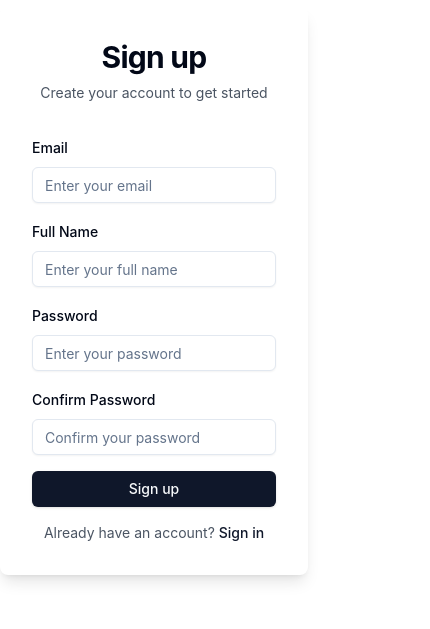
it: RegistrationPage › shows error when passwords do not match
Type "password123" into the password field labelled "Password" at (154, 353), box [32,335,276,371]
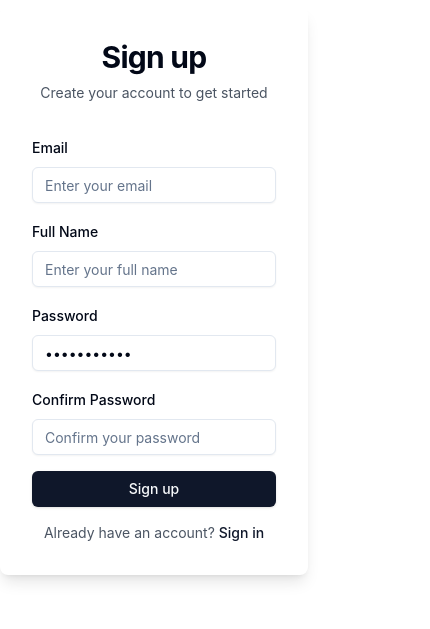
Type "different" into the password field labelled "Confirm Password" at (154, 437), box [32,419,276,455]
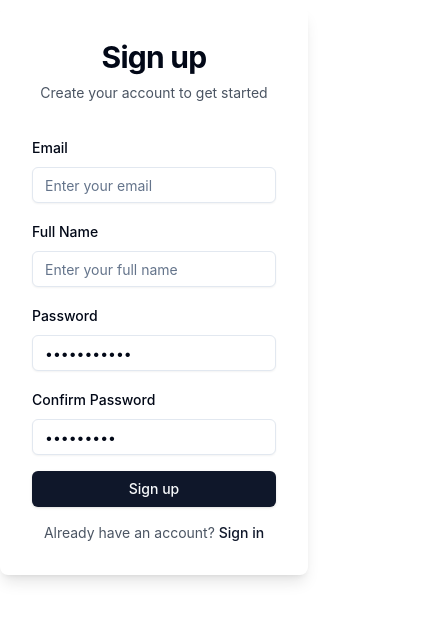
Leave the password field labelled "Confirm Password", box [32,419,276,455]
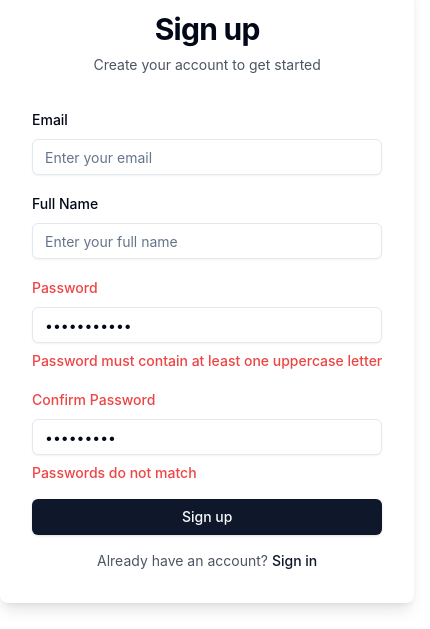
Check: the text "Passwords do not match" is shown, box [32,464,197,481]
